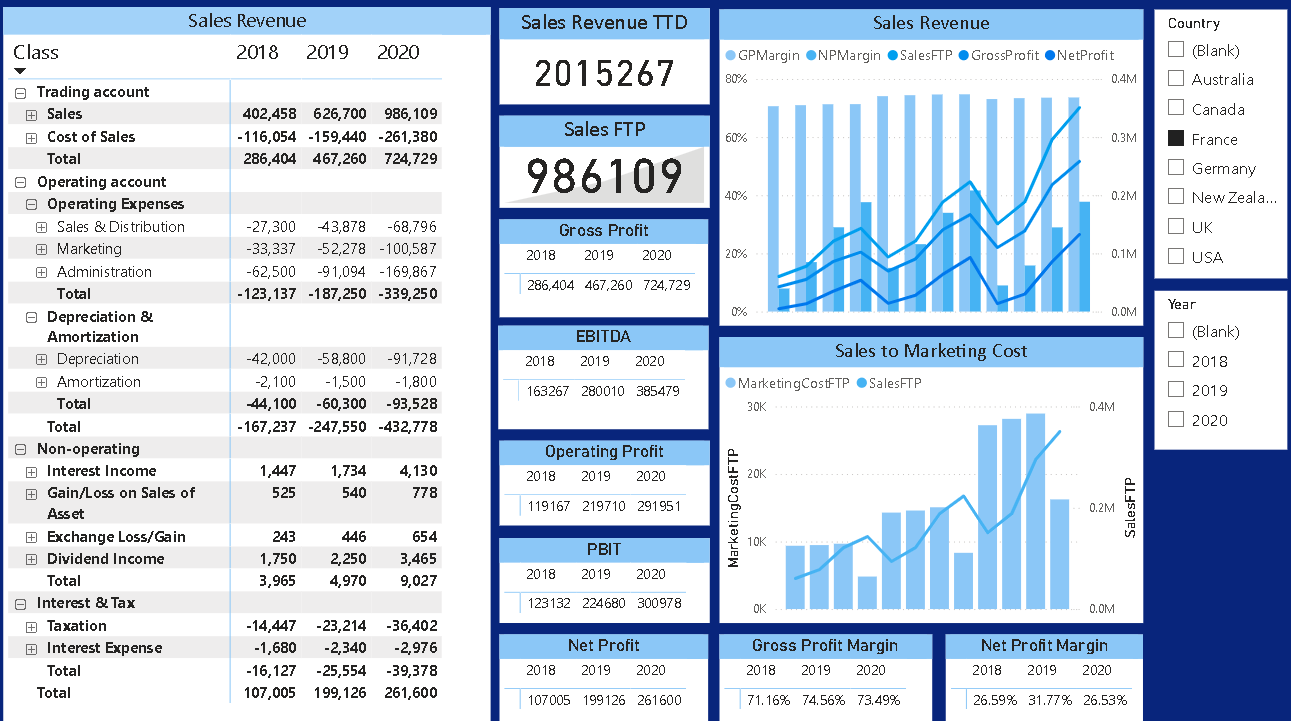

Layout of this report page (visuals, bound fields, positions):
{"tool":"powerbi","page":{"name":"Duplicate of P&L","canvas":[1280,720],"ordinal":3},"visuals":[{"type":"pivotTable","title":"Sales Revenue","fields":{"Columns":["tbl_Calendar.Date.Variation.Date Hierarchy.Year","tbl_Calendar.Date.Variation.Date Hierarchy.Quarter","tbl_Calendar.Date.Variation.Date Hierarchy.Month","tbl_Calendar.Date.Variation.Date Hierarchy.Day"],"Rows":["tbl_ChartofAccounts.Class","tbl_ChartofAccounts.SubClass","tbl_ChartofAccounts.SubClass2","tbl_ChartofAccounts.Account"],"Values":["tbl_GL.Total_FTP"]},"box":[11,14.7,478.5,704.3],"z":0},{"type":"slicer","fields":{"Values":["tbl_territory.Country"]},"box":[1141.1,17.2,130.1,263.8],"z":1000},{"type":"pivotTable","title":"Gross Profit","fields":{"Values":["tbl_GL.Total_FTP"],"Columns":["tbl_Calendar.Date.Variation.Date Hierarchy.Year","tbl_Calendar.Date.Variation.Date Hierarchy.Quarter","tbl_Calendar.Date.Variation.Date Hierarchy.Month","tbl_Calendar.Date.Variation.Date Hierarchy.Day"]},"box":[498.2,223.3,204.9,95.7],"z":2000},{"type":"pivotTable","title":"EBITDA","fields":{"Values":["Sum(tbl_GL.Amount)"],"Columns":["tbl_Calendar.Date.Variation.Date Hierarchy.Year","tbl_Calendar.Date.Variation.Date Hierarchy.Quarter","tbl_Calendar.Date.Variation.Date Hierarchy.Month","tbl_Calendar.Date.Variation.Date Hierarchy.Day"]},"box":[496.9,327.6,206.1,101.8],"z":3000},{"type":"pivotTable","title":"PBIT","fields":{"Values":["Sum(tbl_GL.Amount)"],"Columns":["tbl_Calendar.Date.Variation.Date Hierarchy.Year","tbl_Calendar.Date.Variation.Date Hierarchy.Quarter","tbl_Calendar.Date.Variation.Date Hierarchy.Month","tbl_Calendar.Date.Variation.Date Hierarchy.Day"]},"box":[498.2,536.2,206.1,83.4],"z":4000},{"type":"pivotTable","title":"Net Profit","fields":{"Values":["Sum(tbl_GL.Amount)"],"Columns":["tbl_Calendar.Date.Variation.Date Hierarchy.Year","tbl_Calendar.Date.Variation.Date Hierarchy.Quarter","tbl_Calendar.Date.Variation.Date Hierarchy.Month","tbl_Calendar.Date.Variation.Date Hierarchy.Day"]},"box":[498.2,630.7,204.9,88.3],"z":5000},{"type":"pivotTable","title":"Operating Profit","fields":{"Values":["Sum(tbl_GL.Amount)"],"Columns":["tbl_Calendar.Date.Variation.Date Hierarchy.Year","tbl_Calendar.Date.Variation.Date Hierarchy.Quarter","tbl_Calendar.Date.Variation.Date Hierarchy.Month","tbl_Calendar.Date.Variation.Date Hierarchy.Day"]},"box":[498.2,440.5,206.1,83.4],"z":6000},{"type":"card","title":"Sales Revenue TTD","fields":{"Values":["Sum(tbl_GL.Amount)"]},"box":[498.2,16,206.1,94.5],"z":7000},{"type":"kpi","title":"Sales FTP","fields":{"Indicator":["Sum(tbl_GL.Amount)"],"TrendLine":["tbl_Calendar.Date.Variation.Date Hierarchy.Year"]},"box":[498.2,121.5,206.1,90.8],"z":8000},{"type":"slicer","fields":{"Values":["tbl_Calendar.Year"]},"box":[1141.1,293.3,130.1,155.8],"z":9000},{"type":"lineClusteredColumnComboChart","title":"Sales Revenue","fields":{"Category":["tbl_Calendar.Date.Variation.Date Hierarchy.Year","tbl_Calendar.Date.Variation.Date Hierarchy.Quarter","tbl_Calendar.Date.Variation.Date Hierarchy.Month","tbl_Calendar.Date.Variation.Date Hierarchy.Day"],"Y2":["tbl_GL.SalesFTP","tbl_GL.GrossProfit","tbl_GL.NetProfit"],"Y":["tbl_GL.GPMargin","tbl_GL.NPMargin"]},"box":[714.1,17.2,416,310.4],"z":10000},{"type":"lineStackedColumnComboChart","title":"Sales to Marketing Cost","fields":{"Category":["tbl_Calendar.Date.Variation.Date Hierarchy.Year","tbl_Calendar.Date.Variation.Date Hierarchy.Quarter","tbl_Calendar.Date.Variation.Date Hierarchy.Month","tbl_Calendar.Date.Variation.Date Hierarchy.Day"],"Y":["tbl_GL.MarketingCostFTP"],"Y2":["tbl_GL.SalesFTP"]},"box":[714.1,338.7,416,281],"z":11000},{"type":"pivotTable","title":"Gross Profit Margin","fields":{"Columns":["tbl_Calendar.Date.Variation.Date Hierarchy.Year","tbl_Calendar.Date.Variation.Date Hierarchy.Quarter","tbl_Calendar.Date.Variation.Date Hierarchy.Month","tbl_Calendar.Date.Variation.Date Hierarchy.Day"],"Values":["tbl_GL.GPMaring"]},"box":[714.1,630.7,208.6,88.3],"z":12000},{"type":"pivotTable","title":"Net Profit Margin","fields":{"Columns":["tbl_Calendar.Date.Variation.Date Hierarchy.Year","tbl_Calendar.Date.Variation.Date Hierarchy.Quarter","tbl_Calendar.Date.Variation.Date Hierarchy.Month","tbl_Calendar.Date.Variation.Date Hierarchy.Day"],"Values":["tbl_GL.NPMargin"]},"box":[936.2,630.7,193.9,89.6],"z":13000}]}

Visuals, with their boxes in screenshot pixels (x1, y1, x2, y2), scaled from the page's 1280x720 canvas onto the 1291x721 screenshot:
"Sales Revenue" pivotTable: 11,15,494,720
slicer - tbl_territory.Country: 1151,17,1282,281
"Gross Profit" pivotTable: 502,224,709,319
"EBITDA" pivotTable: 501,328,709,430
"PBIT" pivotTable: 502,537,710,620
"Net Profit" pivotTable: 502,632,709,720
"Operating Profit" pivotTable: 502,441,710,525
"Sales Revenue TTD" card: 502,16,710,111
"Sales FTP" kpi: 502,122,710,213
slicer - tbl_Calendar.Year: 1151,294,1282,450
"Sales Revenue" lineClusteredColumnComboChart: 720,17,1140,328
"Sales to Marketing Cost" lineStackedColumnComboChart: 720,339,1140,621
"Gross Profit Margin" pivotTable: 720,632,931,720
"Net Profit Margin" pivotTable: 944,632,1140,720
